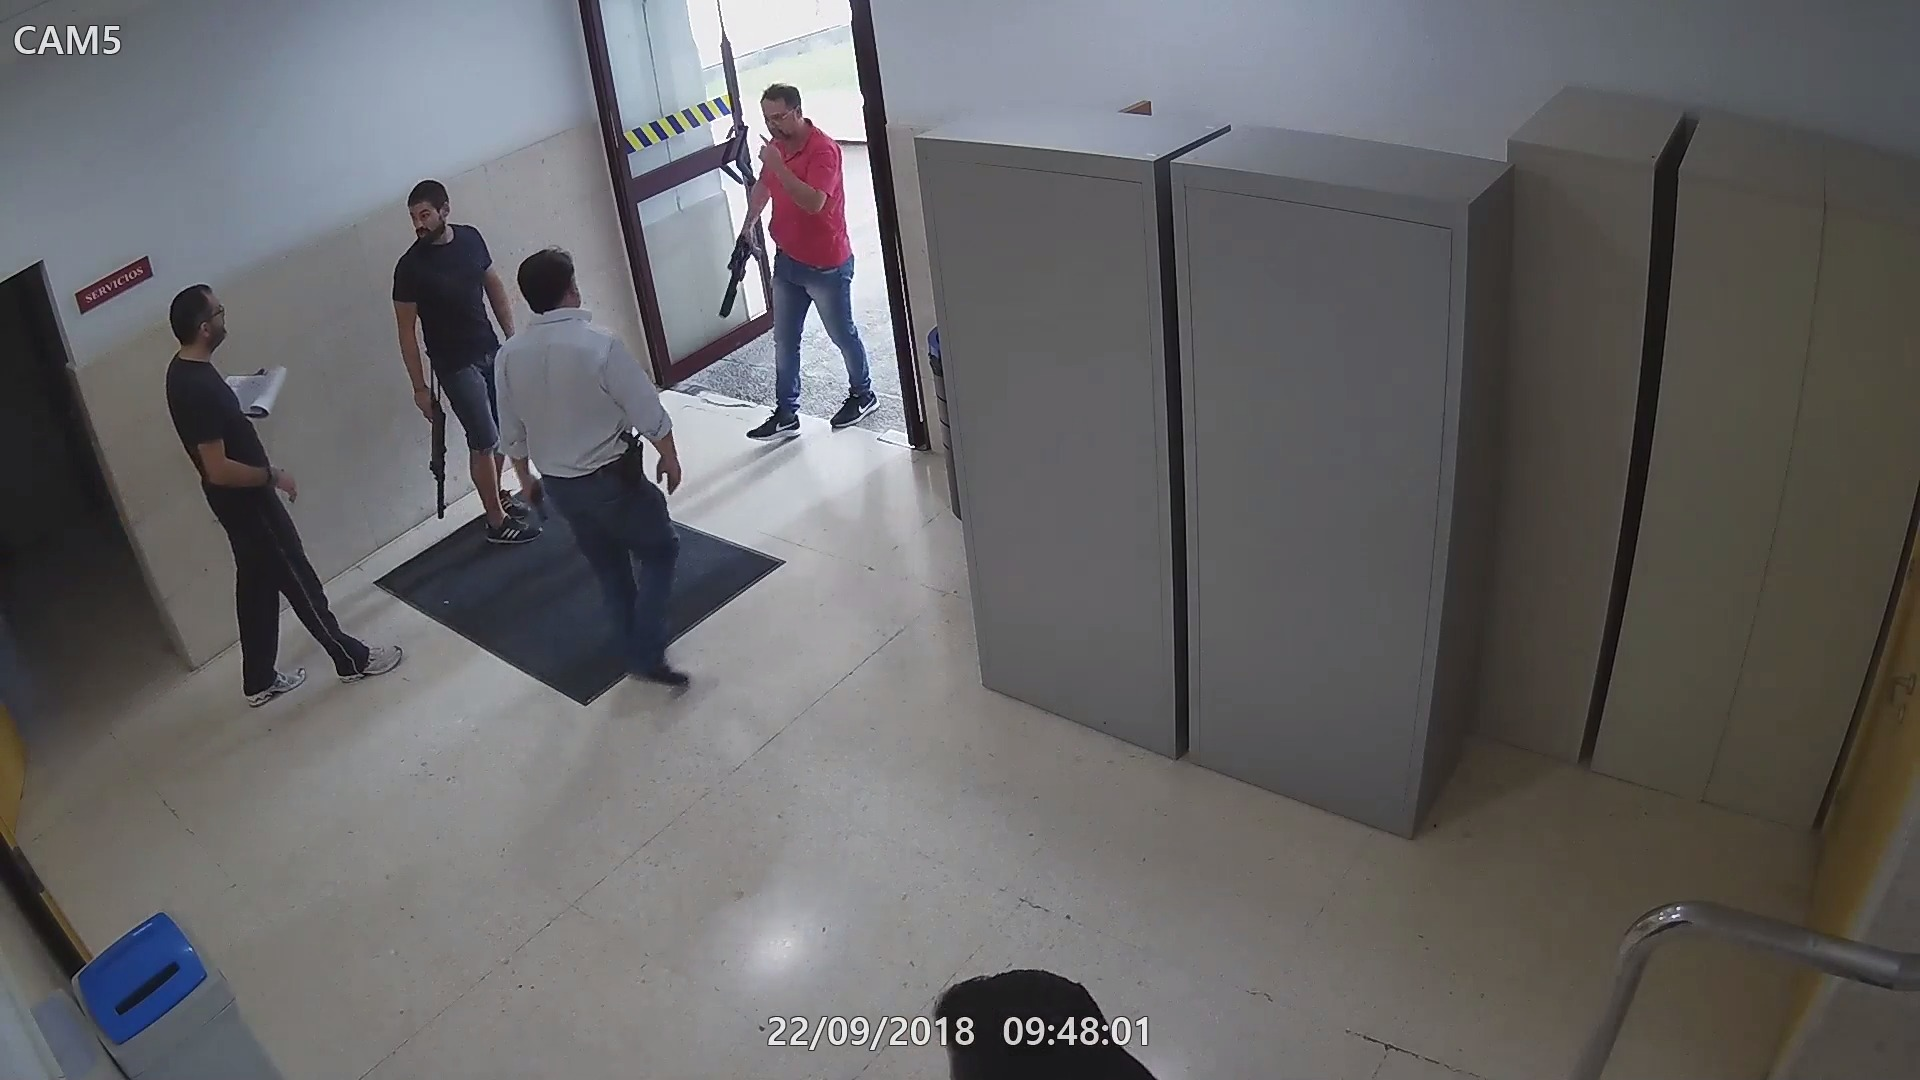Handgun: (522, 473, 553, 526)
Short_rifle: (411, 382, 448, 520), (715, 225, 762, 316)
